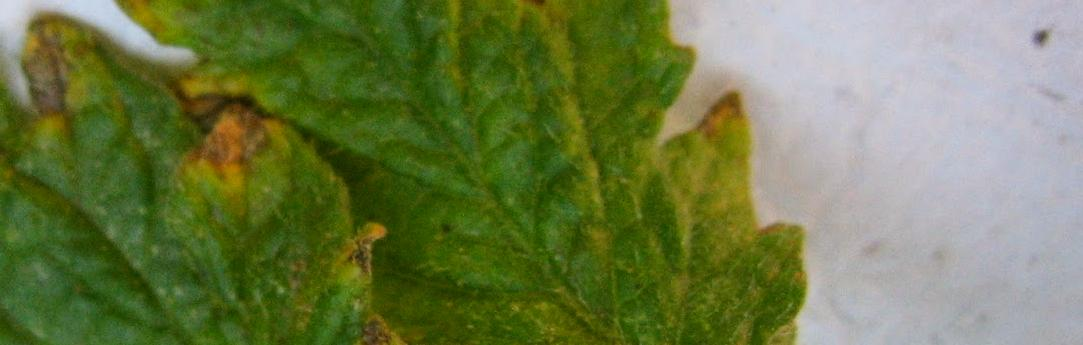Tomato Septoria leaf spot: (34, 0, 866, 345), (0, 0, 786, 345)
